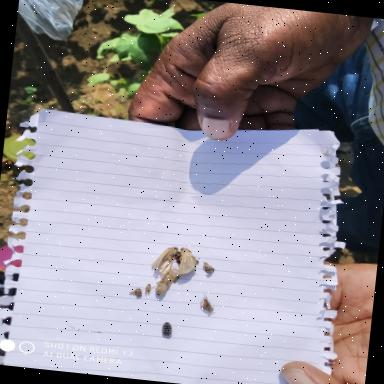abw: (153, 264, 183, 298), (150, 241, 178, 275), (176, 246, 200, 278)
